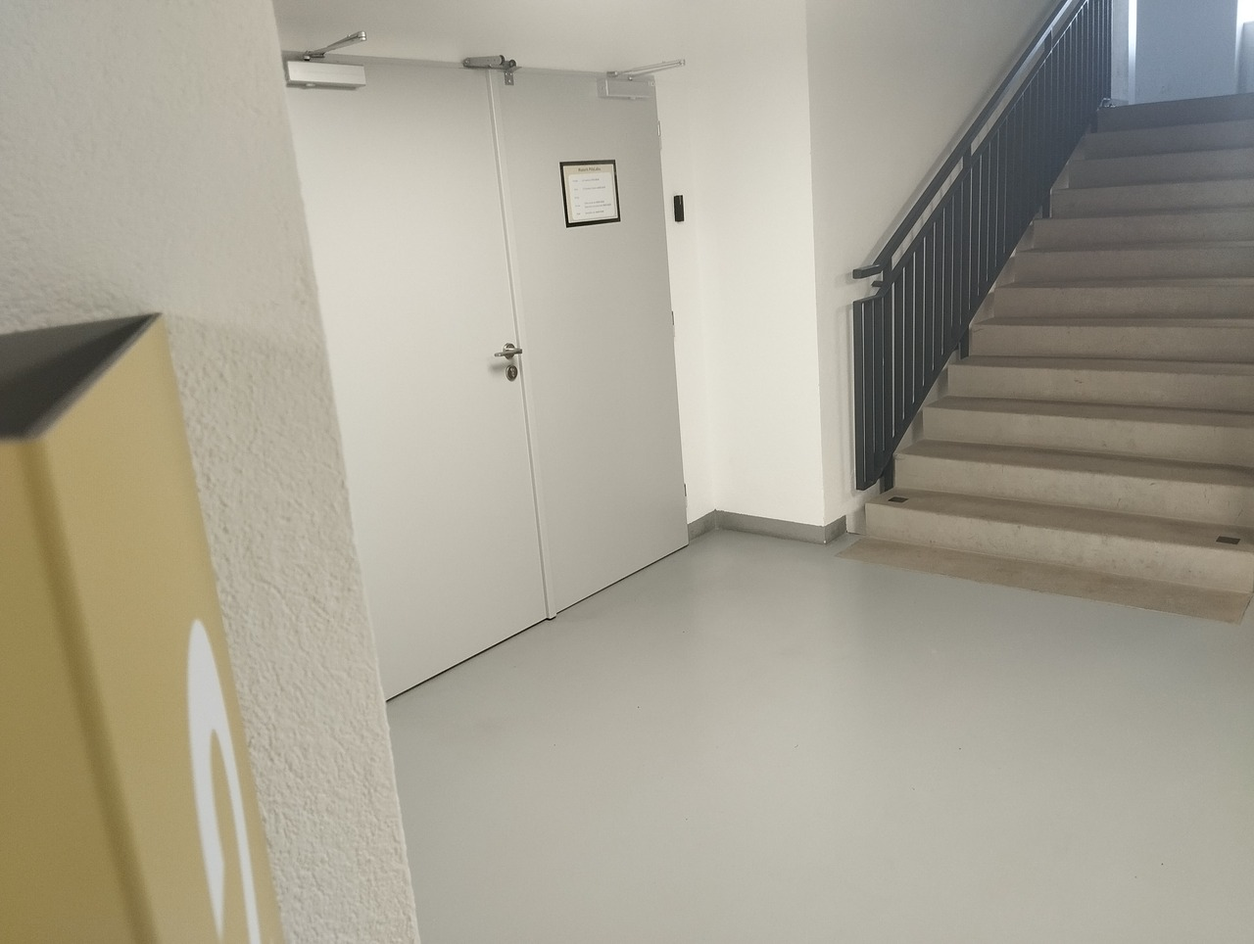Door-handle: (494, 342, 524, 362)
